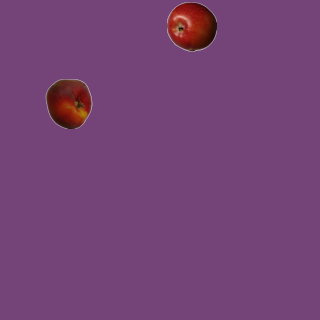Apple Braeburn: (166, 1, 216, 51)
Nectarine Flat: (43, 78, 93, 128)
